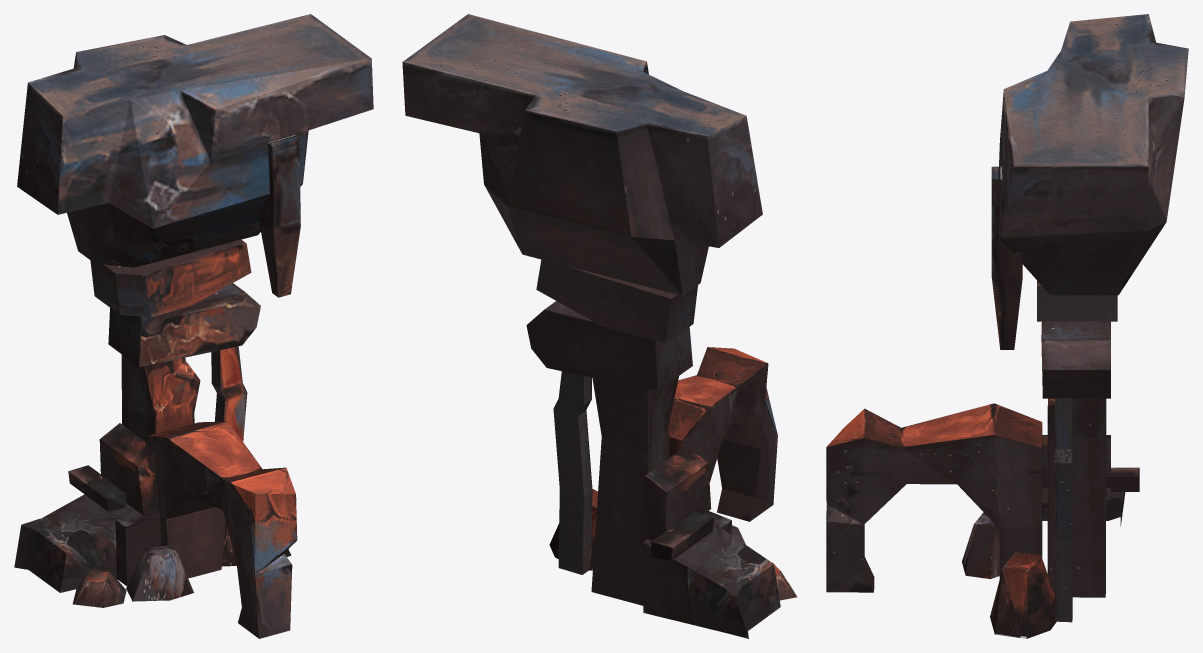
File: huoguanshizhu03.FBX
3 renders of one model, left to right at view 1: azimuth 30°, elevation 25°; view 2: azimuth 150°, elevation 25°; view 3: azimuth 270°, elevation 25°, orthographic. The views are drawn at different scales.
Visible parts, largest first — view 1: huoguanshizhu3; view 2: huoguanshizhu3; view 3: huoguanshizhu3.
Part boxes in pixels (left/top/right/bottom): huoguanshizhu3: left=14, top=14, right=373, bottom=638; huoguanshizhu3: left=402, top=14, right=797, bottom=638; huoguanshizhu3: left=826, top=14, right=1188, bottom=638.
Size of the model in its own units: 716 by 661 by 1043.
